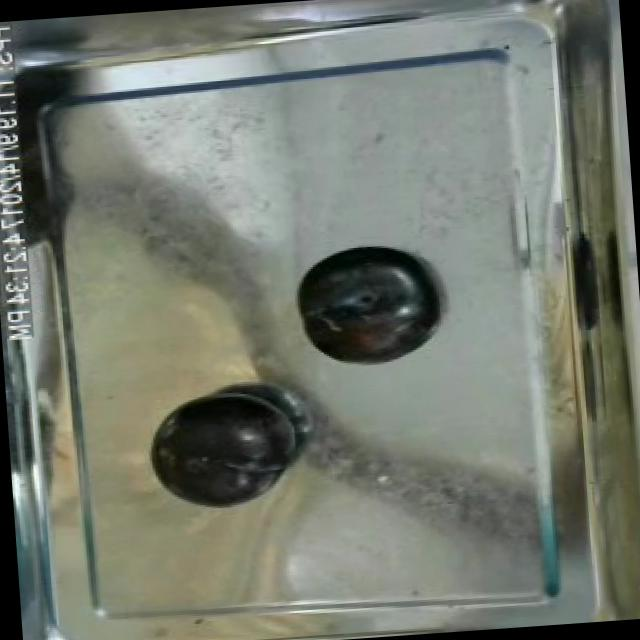Fruit: (60, 439, 288, 630), (144, 386, 306, 518), (290, 236, 447, 372)
